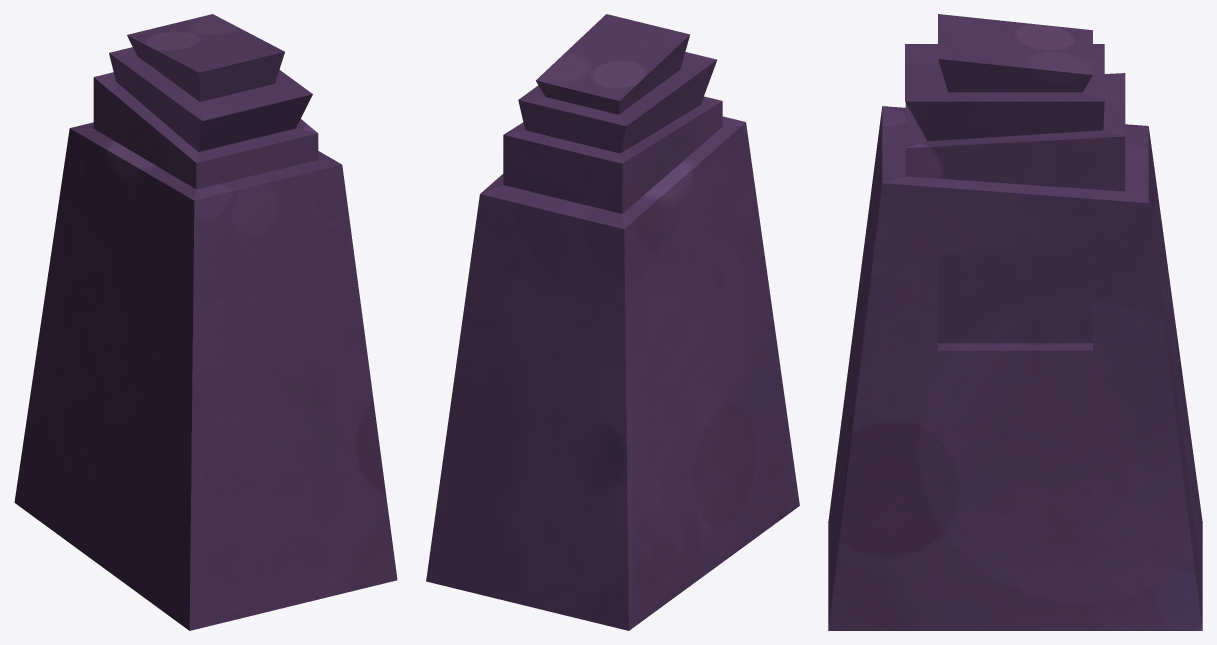
Rendered from tombe1.fbx.
3 renders of one model, left to right at view 1: azimuth 30°, elevation 25°; view 2: azimuth 150°, elevation 25°; view 3: azimuth 270°, elevation 25°, orthographic. The views are drawn at different scales.
Parts seen in each view (by area): view 1: yombe2; view 2: yombe2; view 3: yombe2.
Boxes of the visible parts, x1,y1,x2,y2 form: yombe2: [14, 14, 397, 630]; yombe2: [426, 14, 799, 630]; yombe2: [828, 14, 1202, 630].
Size of the model in its own units: 3.26 by 7.57 by 4.75.
